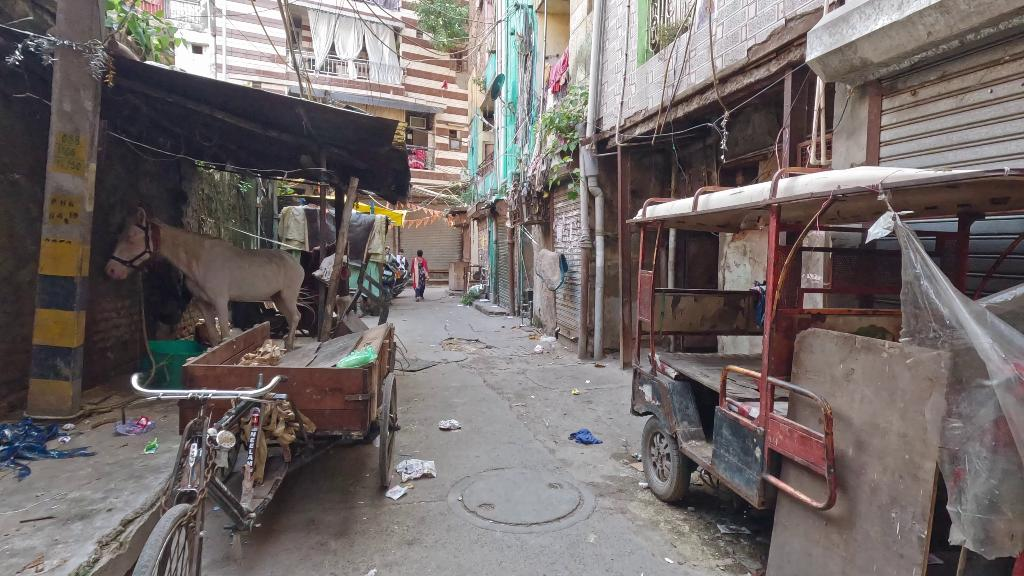garbage: (334, 345, 379, 372), (396, 457, 439, 482), (569, 427, 605, 447), (534, 335, 556, 355), (438, 418, 462, 431)
